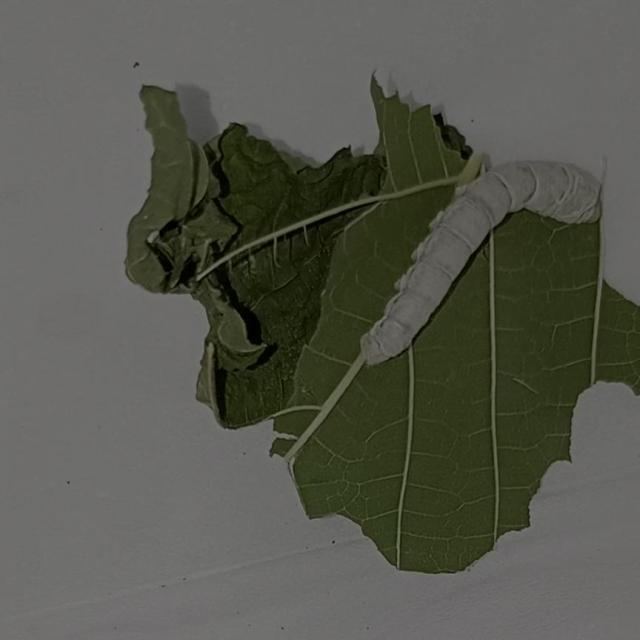Healthy: (341, 129, 612, 379)
